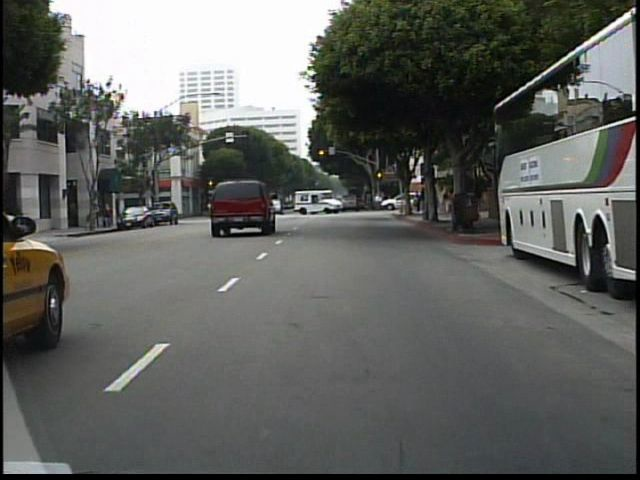person: (440, 184, 453, 219)
